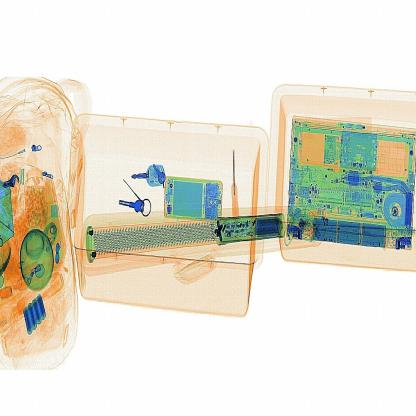wrench: (230, 146, 240, 224)
